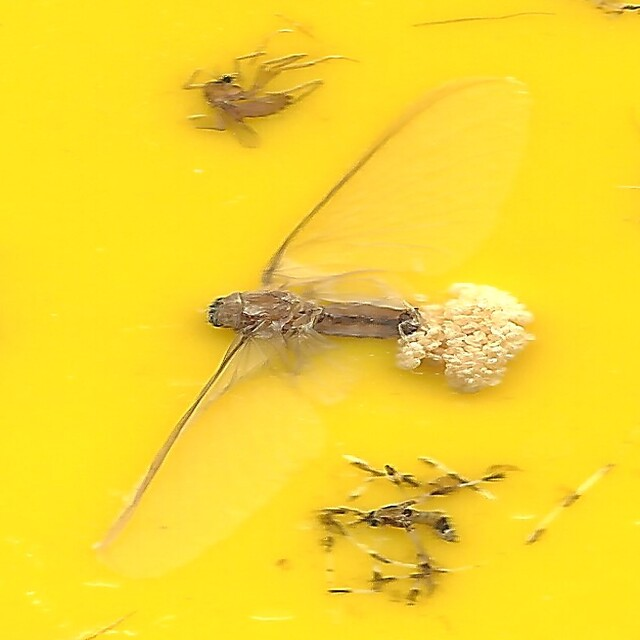Ephemeroptera: (102, 71, 538, 569)
